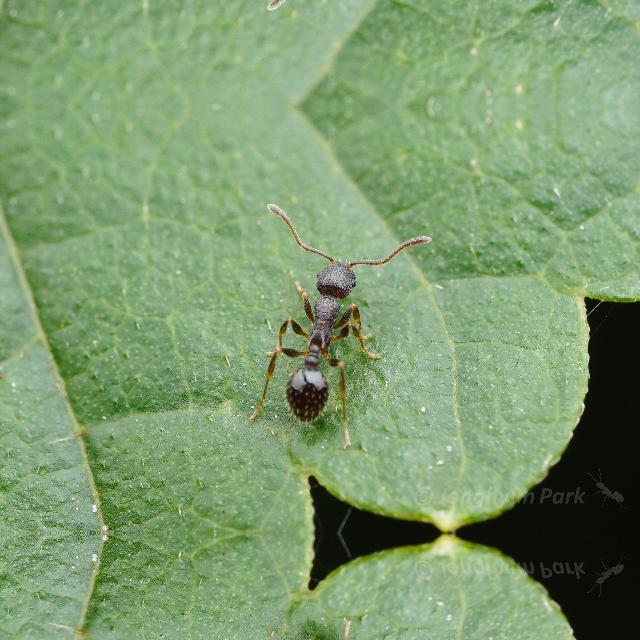Temnothorax: (243, 218, 405, 438)
